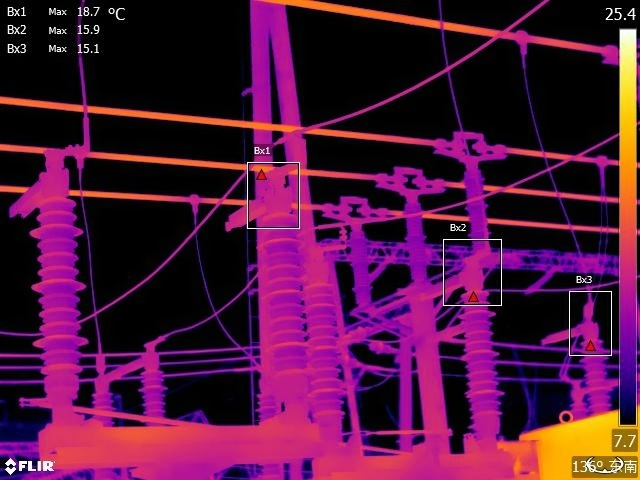clamp: (509, 23, 541, 67), (182, 184, 207, 224), (592, 144, 615, 185)
post insulator: (25, 194, 90, 386), (259, 209, 311, 376), (455, 286, 503, 422), (304, 276, 348, 408), (462, 168, 500, 255), (349, 225, 376, 314), (584, 339, 613, 416), (405, 198, 430, 279), (139, 370, 168, 428), (90, 389, 116, 430), (564, 397, 590, 428)
switch: (1, 139, 81, 236), (224, 165, 304, 234), (397, 258, 493, 314), (538, 305, 613, 352)
